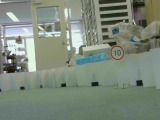speed_10: (108, 44, 125, 62)
